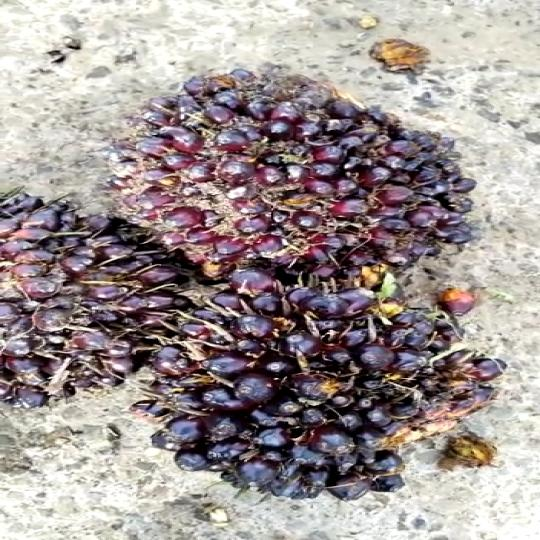kurang masak: (130, 269, 498, 519), (111, 73, 510, 297), (0, 194, 209, 428)
